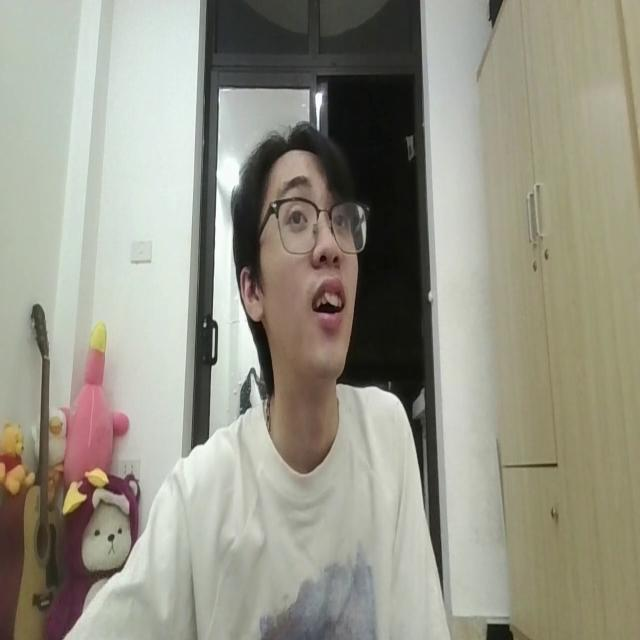student: (48, 115, 445, 640)
